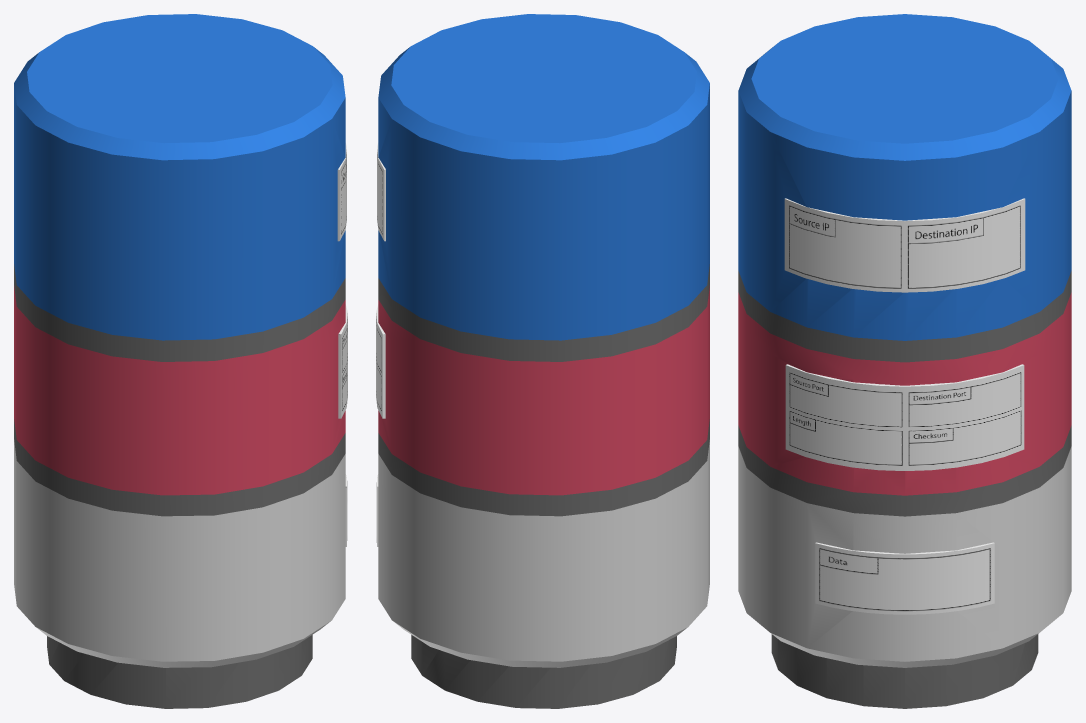
The model's file is udp_datagram_model.fbx.
3 views of the same model, side by side, from view 1: azimuth 30°, elevation 25°; view 2: azimuth 150°, elevation 25°; view 3: azimuth 270°, elevation 25° (orthographic).
Visible parts, largest first — view 1: udp_datagram_final; view 2: udp_datagram_final; view 3: udp_datagram_final.
Boxes of the visible parts, bbox=[...] form: udp_datagram_final: bbox=[14, 14, 347, 708]; udp_datagram_final: bbox=[376, 14, 709, 708]; udp_datagram_final: bbox=[738, 14, 1071, 708].
Bounding box in the file's own units: 0.4768 × 0.9007 × 0.4739.
Materials: 8 (3 with a texture image).
